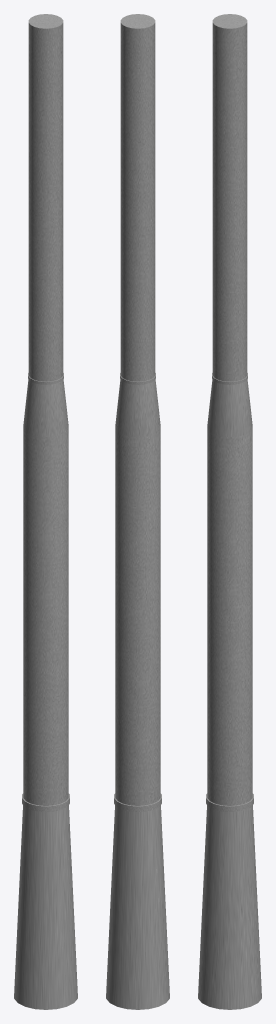
Rendered from body.glb.
3 renders of one model, left to right at view 1: azimuth 30°, elevation 25°; view 2: azimuth 210°, elevation 25°; view 3: azimuth 270°, elevation 25°, orthographic.
Visible parts, largest first — view 1: body; view 2: body; view 3: body.
Part boxes in pixels (left/top/right/bottom): body: left=14, top=14, right=77, bottom=1009; body: left=106, top=14, right=169, bottom=1009; body: left=198, top=14, right=261, bottom=1009.
Size of the model in its own units: 2.14 by 35.56 by 2.11.
1 material, 1 textured.
